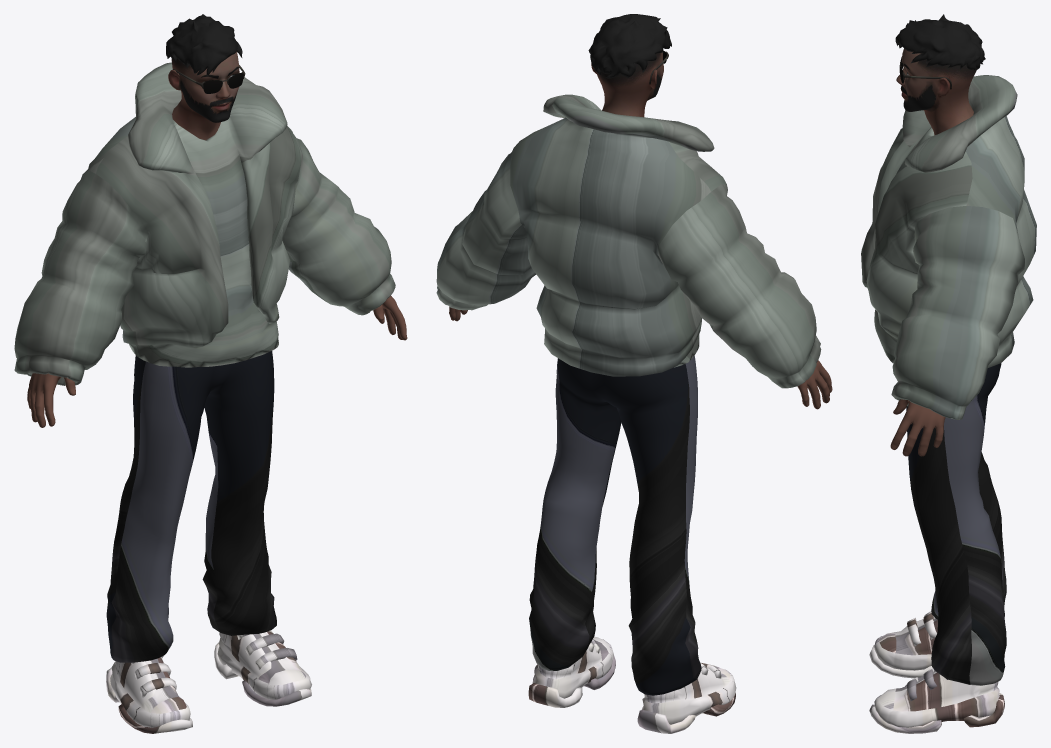
3 renders of one model, left to right at view 1: azimuth 30°, elevation 25°; view 2: azimuth 150°, elevation 25°; view 3: azimuth 270°, elevation 25°, orthographic.
Parts seen in each view (by area): view 1: Wolf3D_Outfit_Top, Wolf3D_Outfit_Bottom, Wolf3D_Outfit_Footwear, Wolf3D_Head, Wolf3D_Hair, Wolf3D_Body; view 2: Wolf3D_Outfit_Top, Wolf3D_Outfit_Bottom, Wolf3D_Outfit_Footwear, Wolf3D_Hair, Wolf3D_Head, Wolf3D_Body; view 3: Wolf3D_Outfit_Top, Wolf3D_Outfit_Bottom, Wolf3D_Outfit_Footwear, Wolf3D_Head, Wolf3D_Hair, Wolf3D_Body.
Boxes of the visible parts, x1,y1,x2,y2 form: Wolf3D_Outfit_Top: (14, 62, 395, 385); Wolf3D_Outfit_Bottom: (106, 351, 276, 662); Wolf3D_Outfit_Footwear: (106, 630, 311, 733); Wolf3D_Head: (168, 51, 239, 140); Wolf3D_Hair: (166, 14, 242, 76); Wolf3D_Body: (27, 296, 407, 427); Wolf3D_Outfit_Top: (436, 94, 821, 388); Wolf3D_Outfit_Bottom: (529, 356, 701, 695); Wolf3D_Outfit_Footwear: (528, 636, 736, 733); Wolf3D_Hair: (588, 14, 671, 78); Wolf3D_Head: (591, 52, 663, 117); Wolf3D_Body: (449, 307, 832, 409); Wolf3D_Outfit_Top: (861, 75, 1036, 419); Wolf3D_Outfit_Bottom: (906, 363, 1006, 685); Wolf3D_Outfit_Footwear: (869, 611, 1004, 733); Wolf3D_Head: (896, 48, 976, 135); Wolf3D_Hair: (895, 14, 985, 69); Wolf3D_Body: (890, 399, 945, 456).
Size of the model in its own units: 1.07 by 1.88 by 0.4419.
9 materials, 9 textured.
